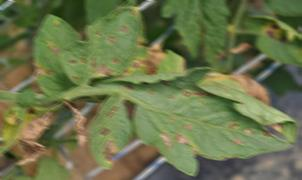Tomato Early blight leaf: (111, 72, 300, 171), (60, 8, 146, 83), (87, 87, 133, 171), (245, 13, 302, 66)
